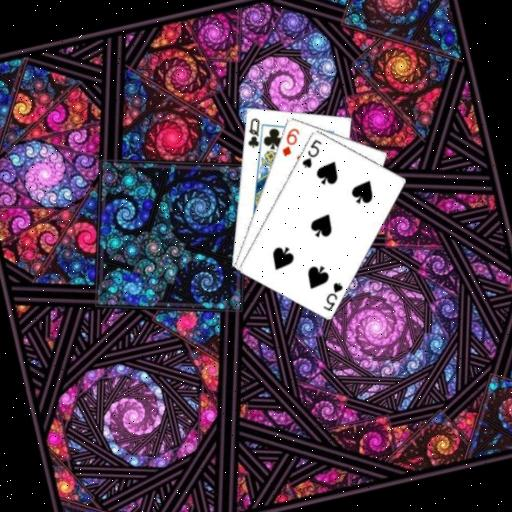5S: (294, 135, 329, 172), (315, 278, 350, 314)
6D: (274, 124, 306, 159)
QC: (239, 114, 267, 151)
